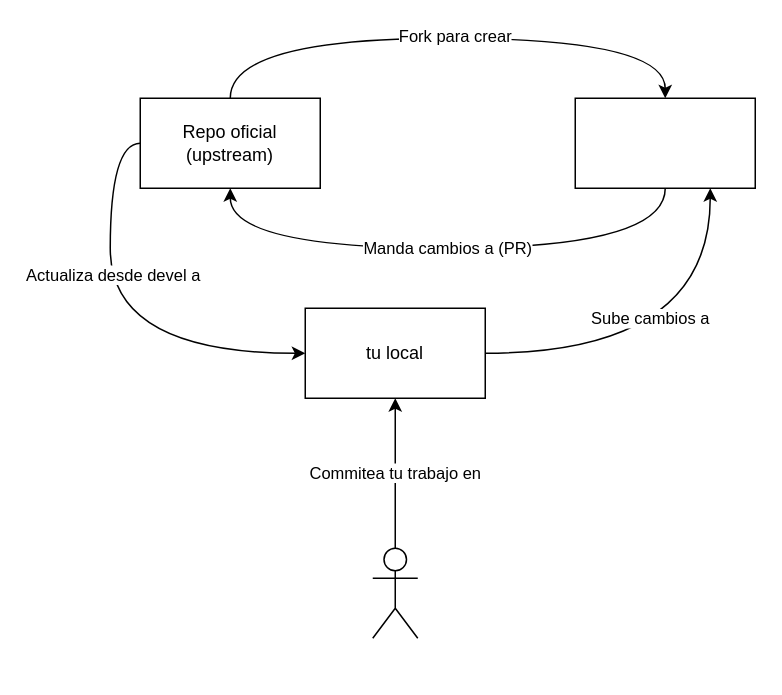
Some shapes in this 782 by 695 pixel diagram are drawn without their labels. The box of each missing label's shape, as (x1, y1, x2, y2) in pixels:
Tu repo (origin): (574, 97, 755, 188)
Tú: (371, 547, 418, 638)
